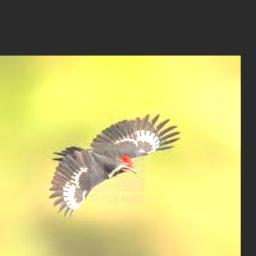Woodpecker: (48, 114, 181, 217)
